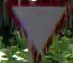Give way: (4, 0, 72, 62)
